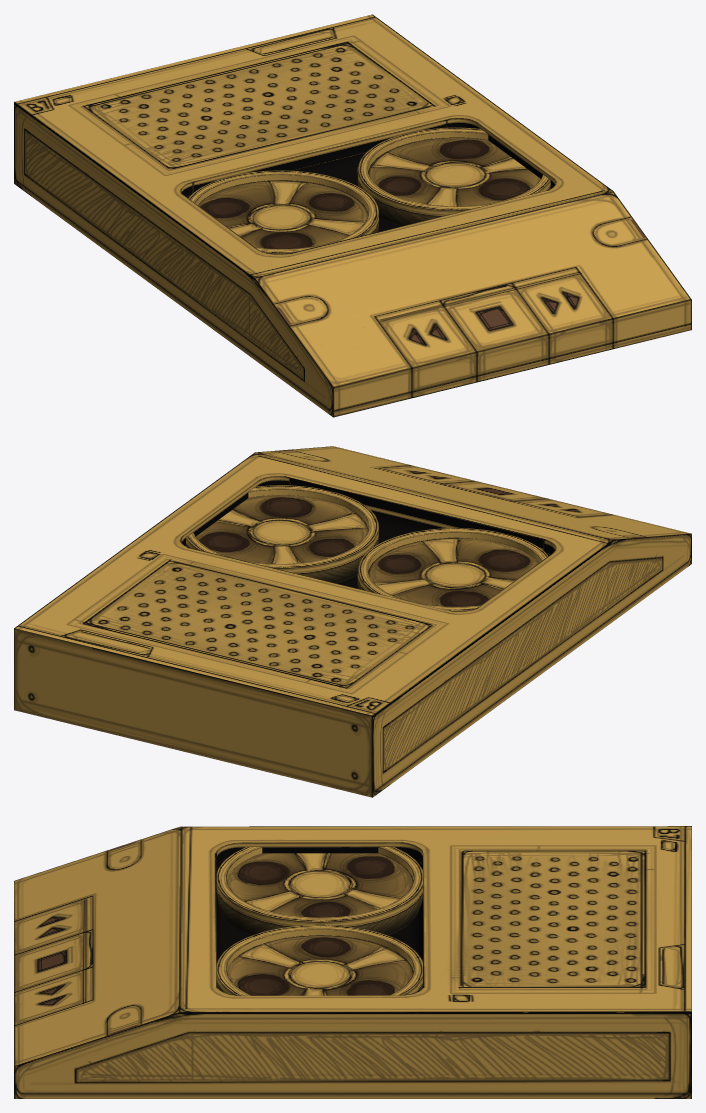
Rendered from audiolog.fbx.
3 renders of one model, top to bottom at view 1: azimuth 30°, elevation 25°; view 2: azimuth 150°, elevation 25°; view 3: azimuth 270°, elevation 25°, orthographic. The views are drawn at different scales.
Visible parts, largest first — view 1: Plane, Circle.001, Circle; view 2: Plane, Circle.001, Circle; view 3: Plane, Circle, Circle.001.
Part boxes in pixels (x1=…): Plane: x1=14, y1=14, x2=691, y2=417; Circle.001: x1=357, y1=127, x2=550, y2=226; Circle: x1=188, y1=170, x2=378, y2=254; Plane: x1=14, y1=446, x2=691, y2=797; Circle.001: x1=186, y1=485, x2=378, y2=583; Circle: x1=357, y1=528, x2=548, y2=611; Plane: x1=14, y1=826, x2=691, y2=1098; Circle: x1=216, y1=847, x2=422, y2=935; Circle.001: x1=216, y1=924, x2=422, y2=995.
Bounding box in the file's own units: 41.35 × 9.02 × 63.77.
